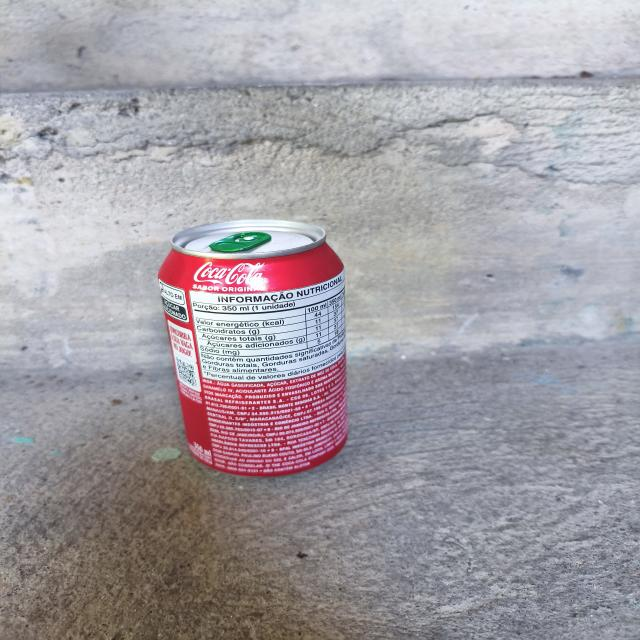Coca Cola: (160, 214, 372, 480)
